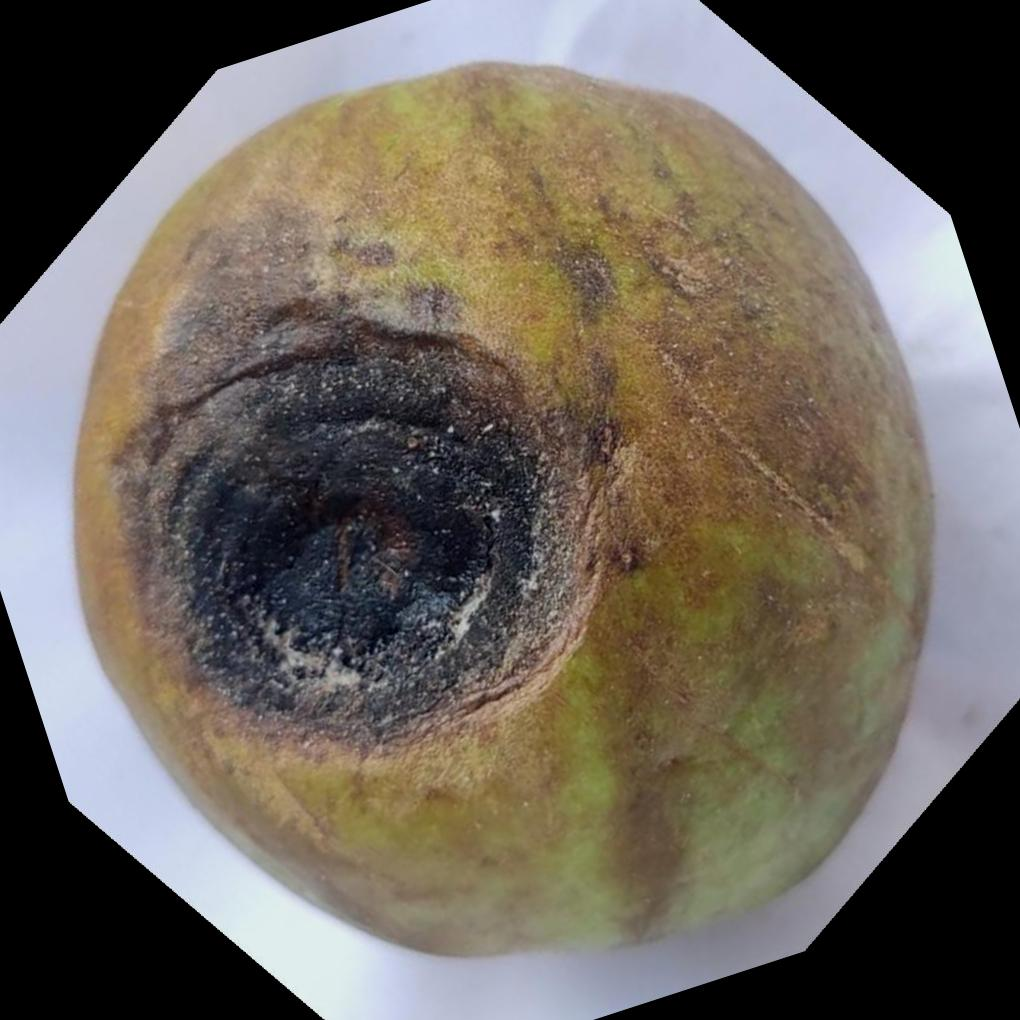FreshOrange: (70, 59, 940, 965)
